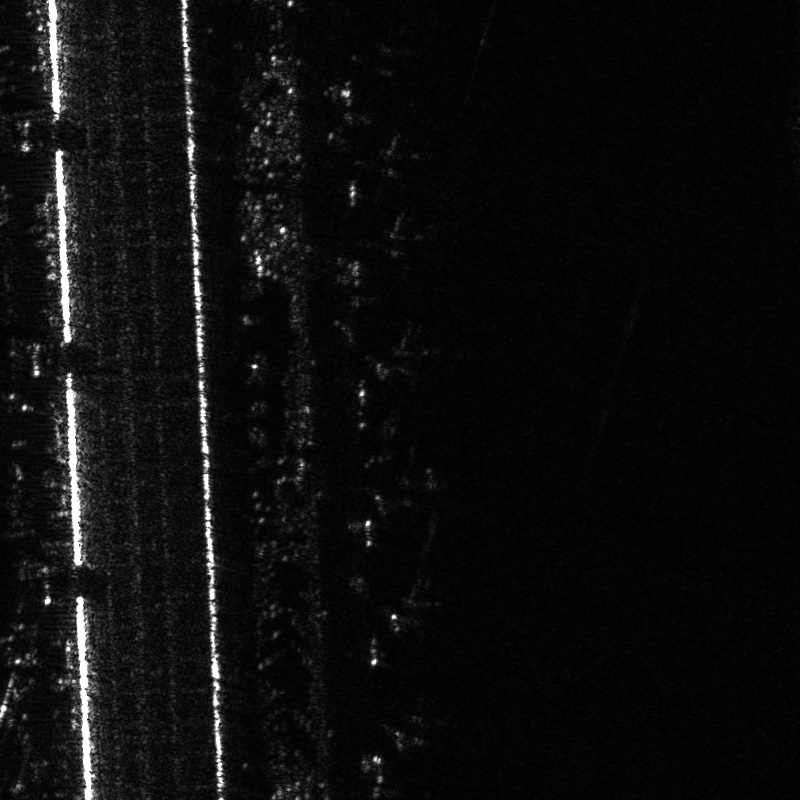A220: (364, 325, 444, 384)
A320/321: (350, 132, 433, 185), (373, 211, 431, 265)
other: (370, 693, 462, 758)
